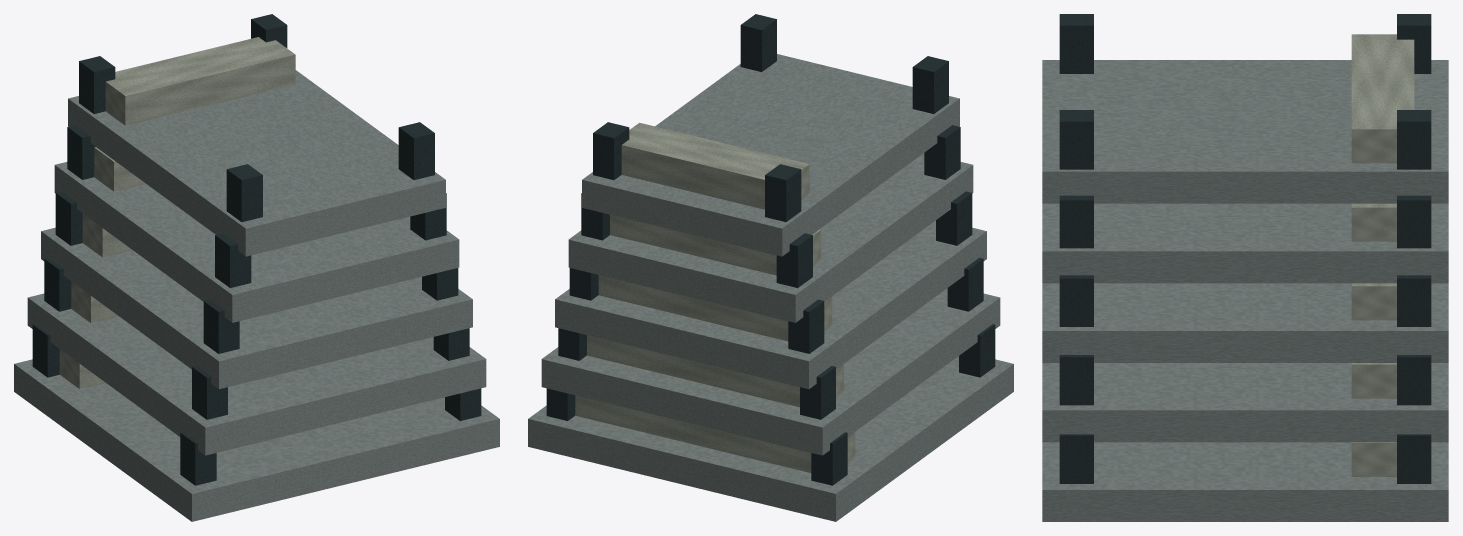
Rendered from habitat_block_01.fbx.
The picture shows the model from 3 angles, left to right: view 1: azimuth 30°, elevation 25°; view 2: azimuth 150°, elevation 25°; view 3: azimuth 270°, elevation 25°; orthographic projection. The views are drawn at different scales.
Visible parts, largest first — view 1: habitat_block_01_LOD0; view 2: habitat_block_01_LOD0; view 3: habitat_block_01_LOD0.
Boxes of the visible parts, left/top/right/bottom form: habitat_block_01_LOD0: left=14, top=14, right=499, bottom=521; habitat_block_01_LOD0: left=528, top=14, right=1013, bottom=521; habitat_block_01_LOD0: left=1042, top=14, right=1448, bottom=521.
Size of what is drawn, in the model's own units: 1 by 1 by 1.
